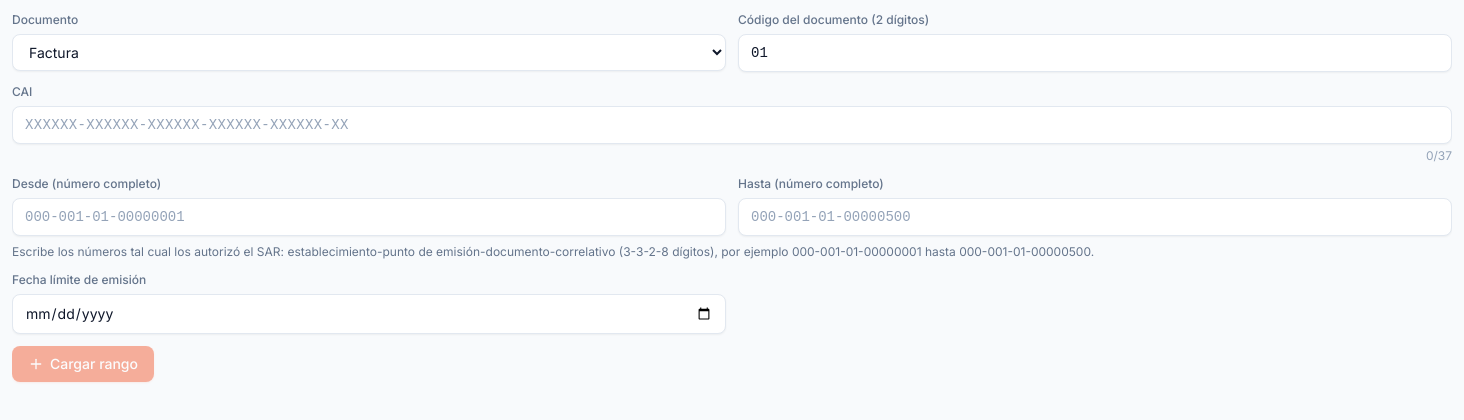
FormularioRango con UNA sucursal › pide el número completo del SAR con guiones automáticos (EEE-PPP-TT-CCCCCCCC) y avisa si desde > hasta
Step 1. Type "0a0b00010100000010" into the field labelled "Desde (número completo)" → (369,217), box left=12, top=198, right=726, bottom=236
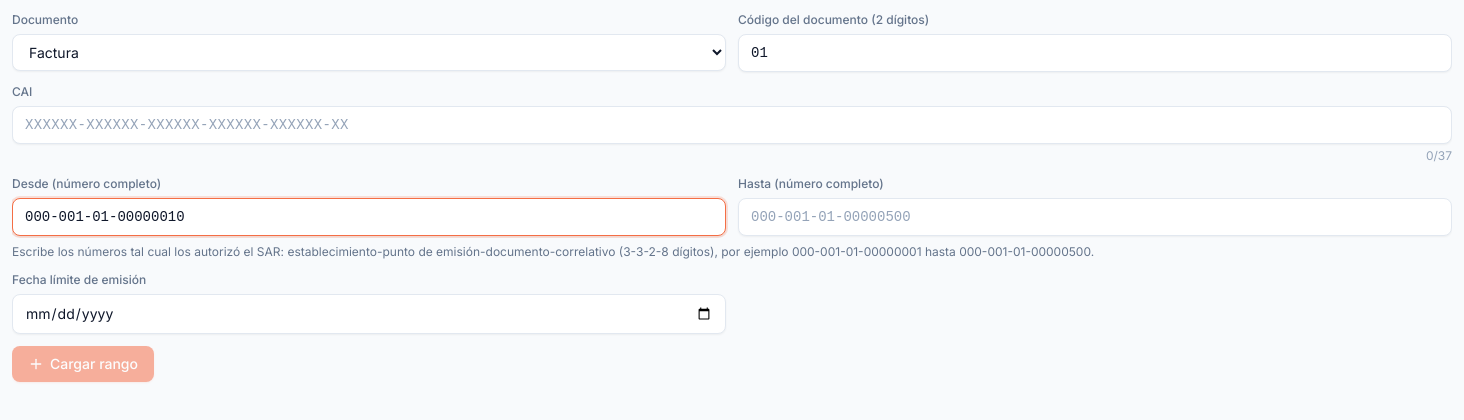
expect the field labelled "Desde (número completo)" holds "000-001-01-00000010": met, box left=12, top=198, right=726, bottom=236
Step 2. Type "0000010100000005" into the field labelled "Hasta (número completo)" → (1095,217), box left=738, top=198, right=1452, bottom=236
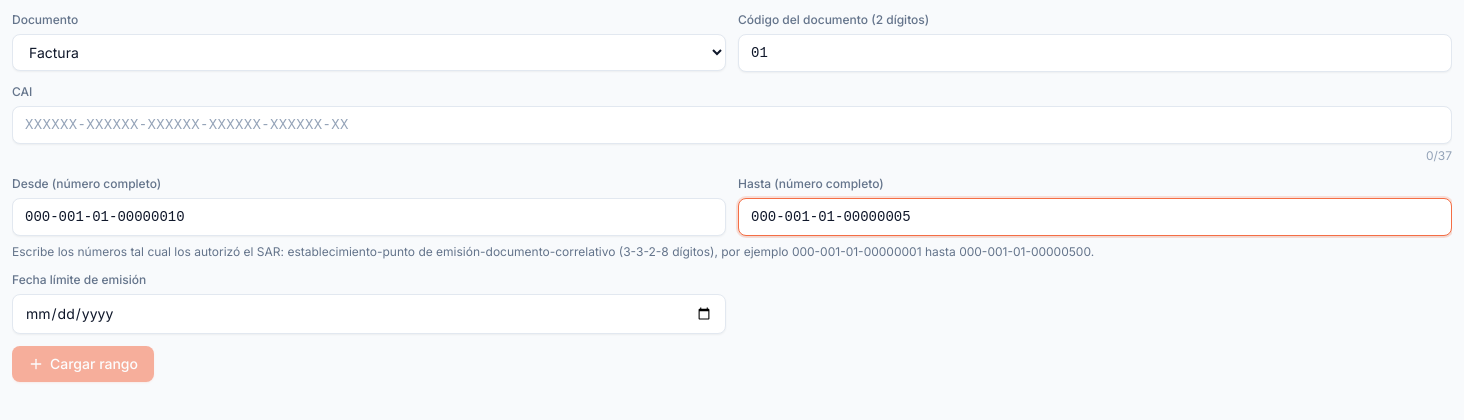
Step 3. Press Tab
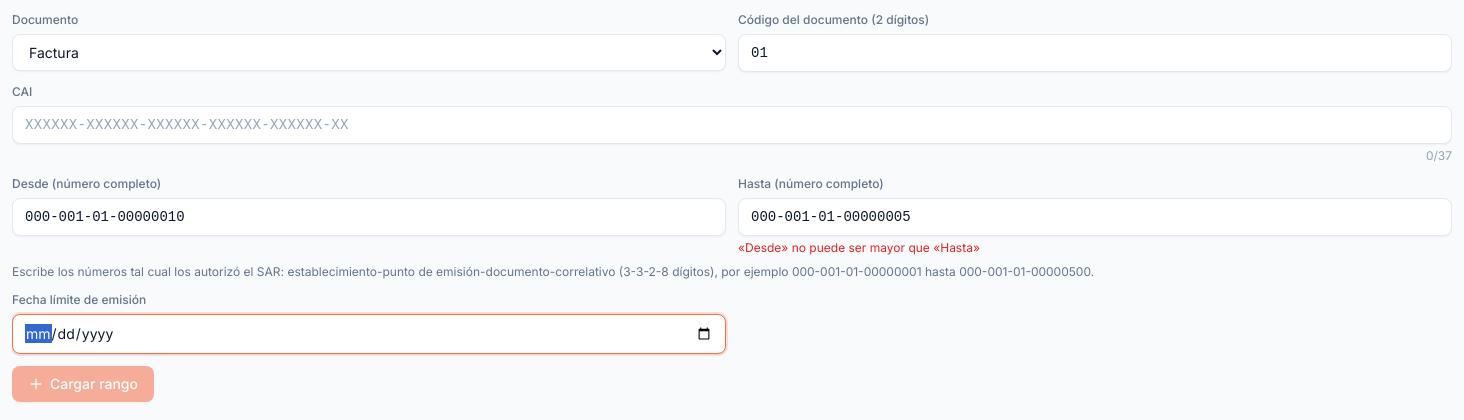
expect the text "«Desde» no puede ser mayor que «Hasta»" is shown: met, box left=738, top=240, right=980, bottom=255
